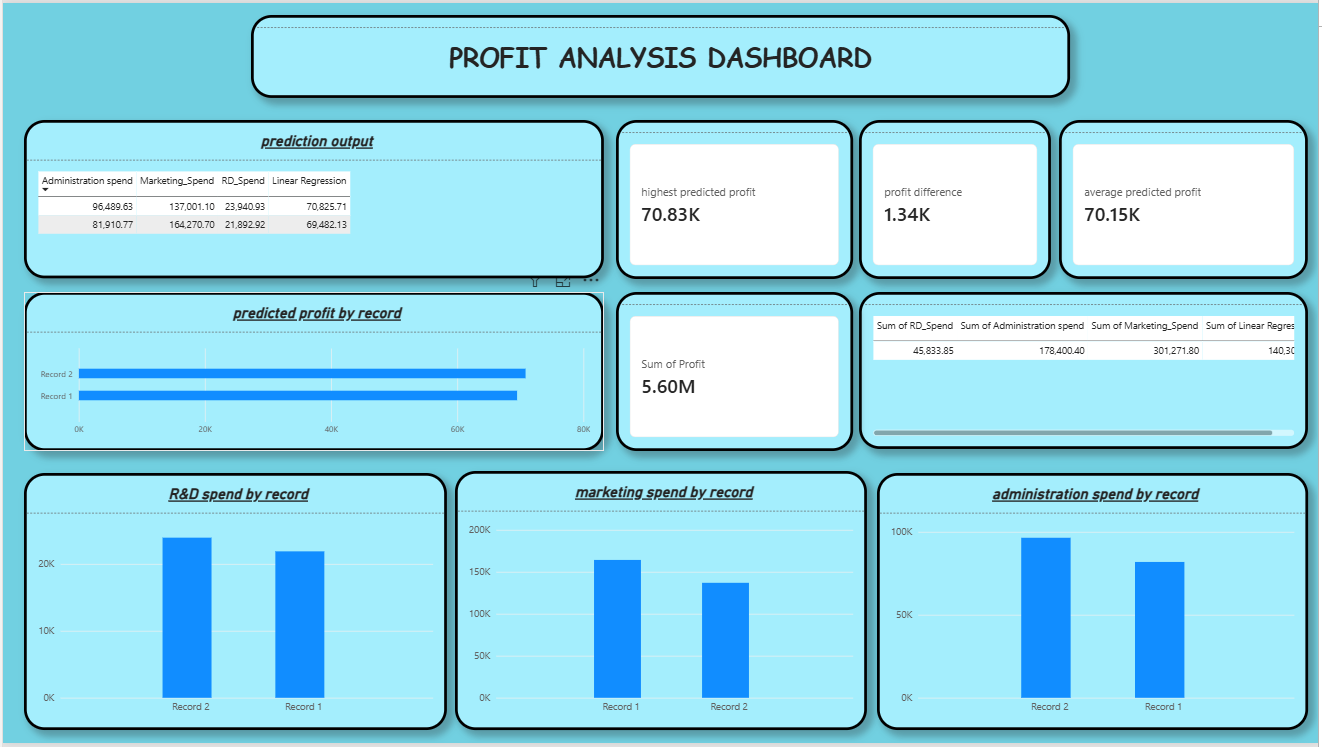

What the dashboard file says about the page in this screenshot:
{"tool":"powerbi","page":{"name":"dashboard","canvas":[1920,1080],"ordinal":0},"visuals":[{"type":"cardVisual","fields":{"Data":["employee data.average predicted profit"]},"box":[1540.7,170.7,363.3,232],"z":0},{"type":"textbox","box":[361.8,17.5,1194.9,121.1],"z":1000},{"type":"cardVisual","fields":{"Data":["employee data.highest predicted profit"]},"box":[894.3,170.7,345.8,232],"z":2000},{"type":"cardVisual","fields":{"Data":["employee data.profit difference"]},"box":[1248.9,170.7,280.1,232],"z":3000},{"type":"clusteredBarChart","title":"predicted profit by record","fields":{"Category":["prediction output.Record"],"Y":["Sum(prediction output.Linear Regression)"]},"box":[30.6,421.6,846.2,232],"z":4000},{"type":"clusteredColumnChart","title":"R&D spend by record","fields":{"Category":["prediction output.Record"],"Y":["Sum(prediction output.RD_Spend)"]},"box":[30.6,685.7,617.1,375],"z":5000},{"type":"clusteredColumnChart","title":"marketing spend by record","fields":{"Category":["prediction output.Record"],"Y":["Sum(prediction output.Marketing_Spend)"]},"box":[659.5,682.8,601.1,377.9],"z":6000},{"type":"clusteredColumnChart","title":"administration spend by record","fields":{"Category":["prediction output.Record"],"Y":["Sum(prediction output.Administration)"]},"box":[1275.1,685.7,628.8,375],"z":7000},{"type":"tableEx","fields":{"Values":["Sum(prediction output.RD_Spend)","Sum(prediction output.Administration)","Sum(prediction output.Marketing_Spend)","Sum(prediction output.Linear Regression)"]},"box":[1248.9,421.6,655.1,229.1],"z":8000},{"type":"cardVisual","fields":{"Data":["Sum(employee data.Profit)"]},"box":[894.3,421.6,345.8,232],"z":9000},{"type":"tableEx","title":"prediction output","fields":{"Values":["Sum(prediction output.Administration)","prediction output.Marketing_Spend","prediction output.RD_Spend","prediction output.Linear Regression"]},"box":[30.6,170.7,846,231],"z":10000}]}

Visuals, with their boxes in screenshot pixels (x1, y1, x2, y2), scaled from the page's 1920x1080 canvas onto the 1322x747 screenshot:
cardVisual - employee data.average predicted profit: Rect(1061, 118, 1311, 279)
textbox: Rect(249, 12, 1072, 96)
cardVisual - employee data.highest predicted profit: Rect(616, 118, 854, 279)
cardVisual - employee data.profit difference: Rect(860, 118, 1053, 279)
"predicted profit by record" clusteredBarChart: Rect(21, 292, 604, 452)
"R&D spend by record" clusteredColumnChart: Rect(21, 474, 446, 734)
"marketing spend by record" clusteredColumnChart: Rect(454, 472, 868, 734)
"administration spend by record" clusteredColumnChart: Rect(878, 474, 1311, 734)
tableEx - Sum(prediction output.RD_Spend) x Sum(prediction output.Administration): Rect(860, 292, 1311, 450)
cardVisual - Sum(employee data.Profit): Rect(616, 292, 854, 452)
"prediction output" tableEx: Rect(21, 118, 604, 278)
